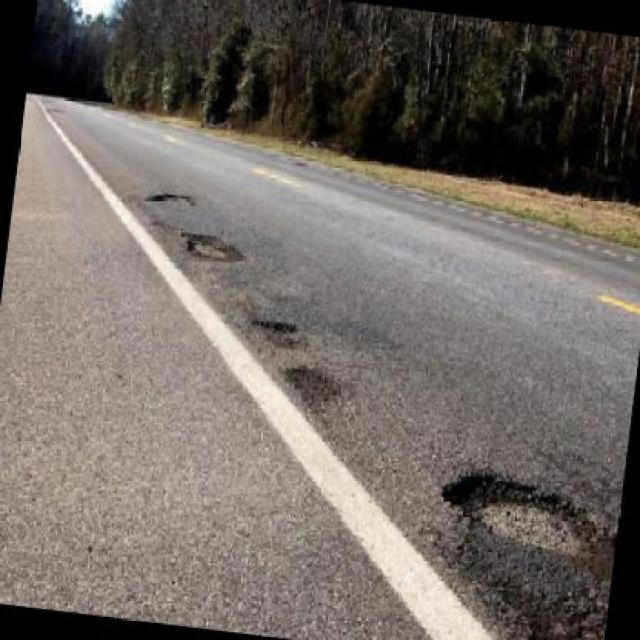pothole1: (436, 464, 602, 562), (281, 359, 347, 412), (180, 228, 248, 268), (247, 310, 304, 348), (148, 185, 200, 210)
